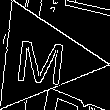M_N: (13, 31, 68, 86)
